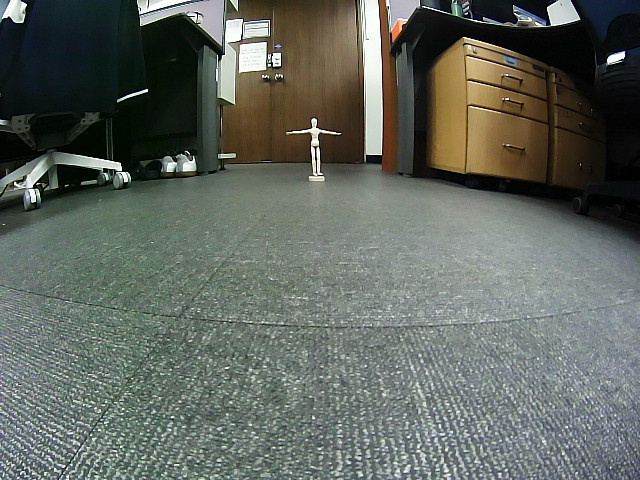person: (286, 117, 342, 177)
